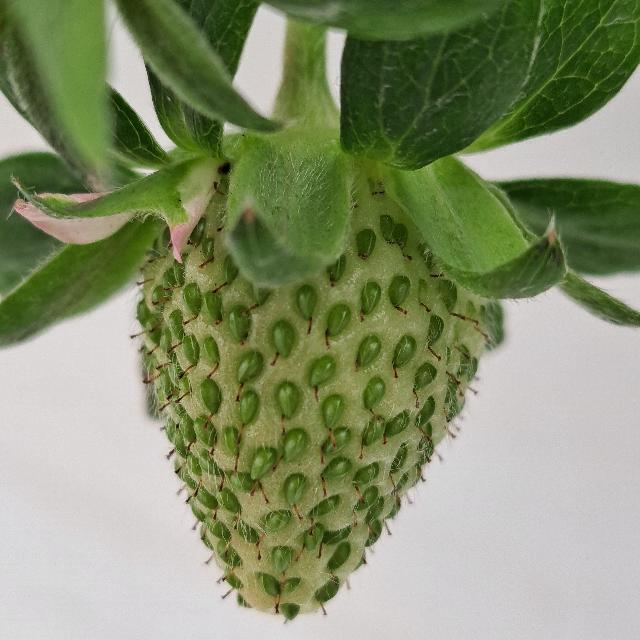Health_25: (136, 175, 484, 620)
